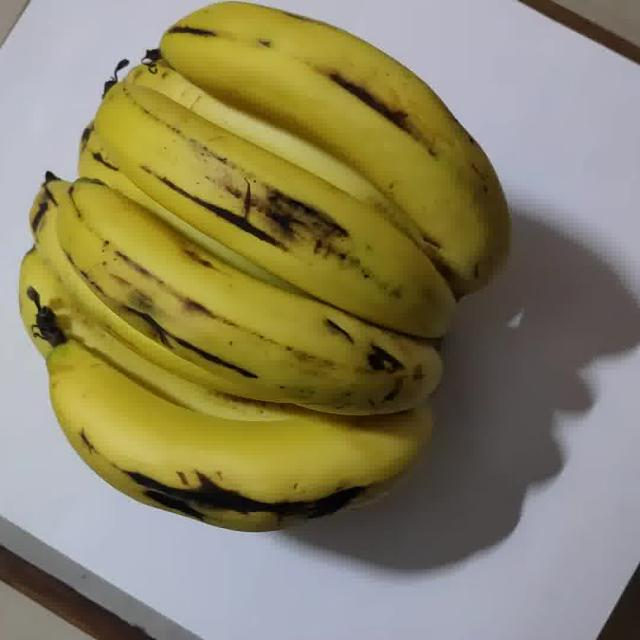banana_pacche: (1, 1, 600, 601)
